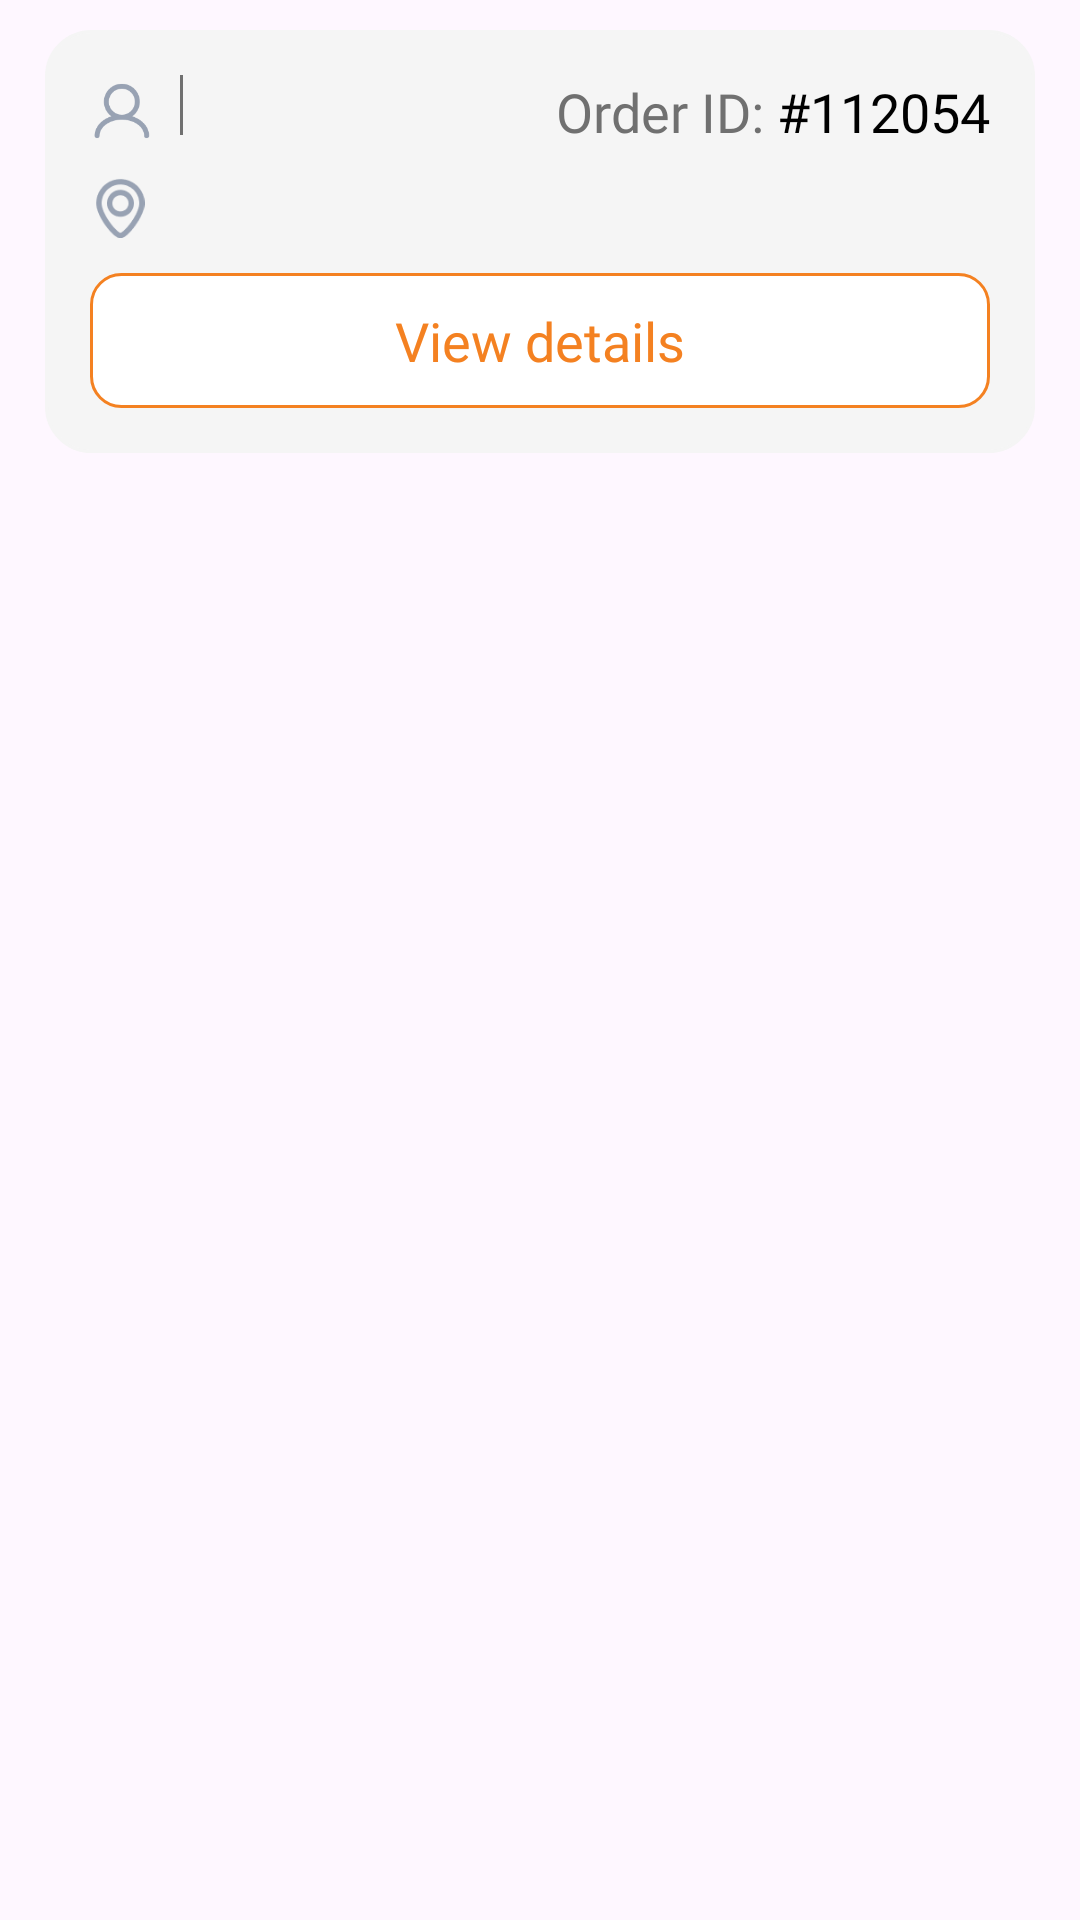

Named icons in this screenshot (1080 × 1920) and their centers, (x,y):
marker: (120,208)
profile: (121,111)
